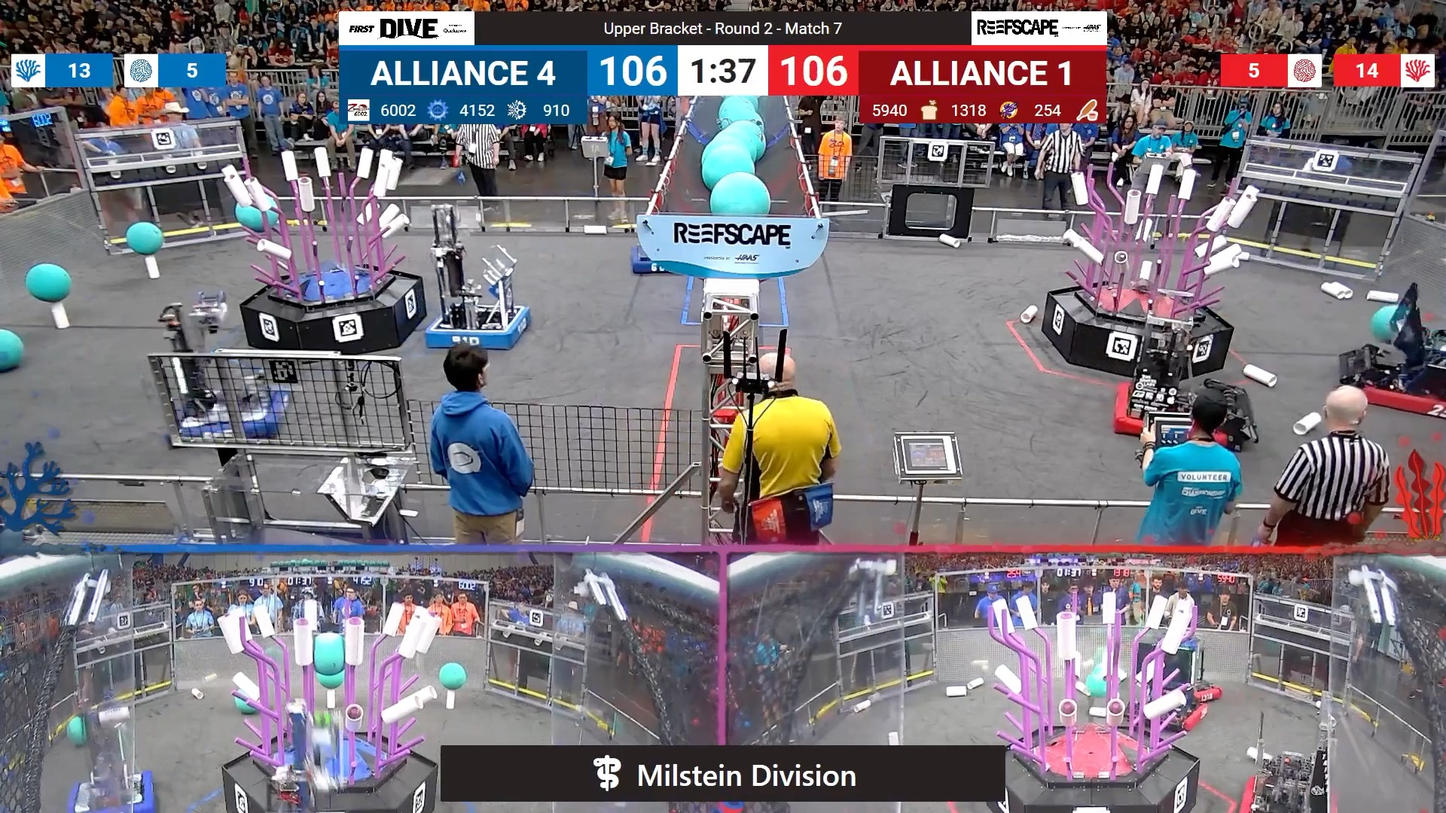bumpers: (1103, 384, 1231, 457), (174, 382, 293, 449), (1343, 350, 1446, 422), (423, 303, 534, 355), (68, 766, 163, 813), (1129, 693, 1212, 733), (627, 248, 674, 277), (1176, 679, 1224, 702)
